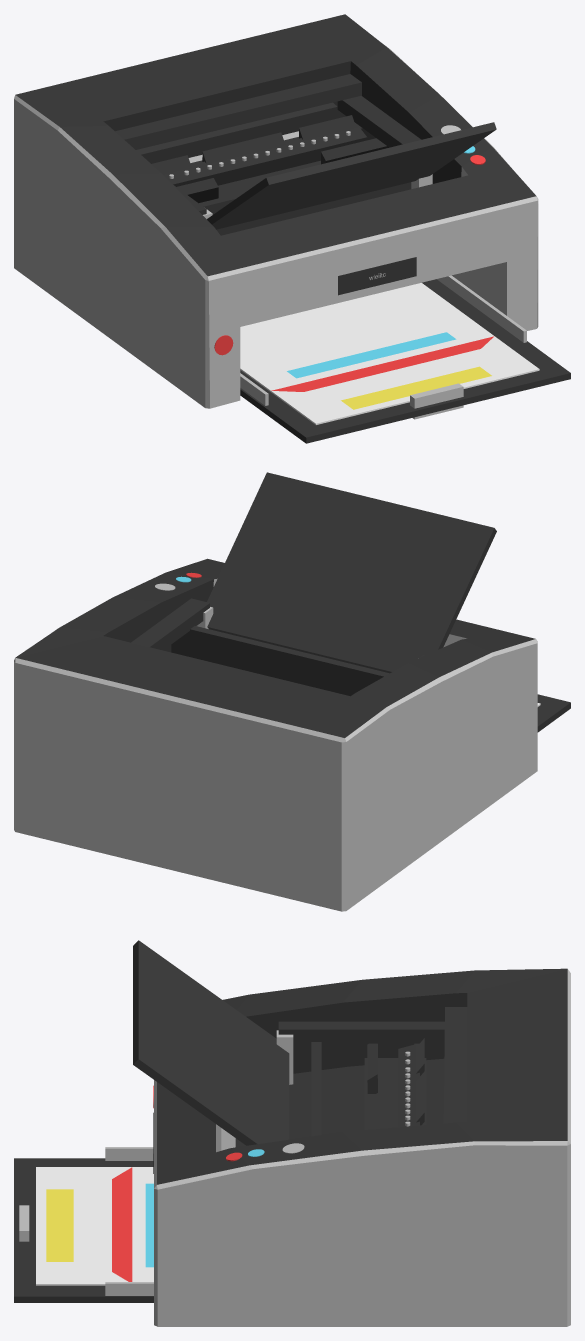
Rendered from printer.gltf.
3 renders of one model, top to bottom at view 1: azimuth 30°, elevation 25°; view 2: azimuth 150°, elevation 25°; view 3: azimuth 270°, elevation 25°, orthographic. The views are drawn at different scales.
Parts seen in each view (by area): view 1: Box023; view 2: Box023; view 3: Box023.
Part boxes in pixels (box(x1,y1,x2,y2)): Box023: box(14, 14, 570, 443); Box023: box(14, 472, 570, 911); Box023: box(14, 940, 570, 1326).
Size of the model in its own units: 0.5732 by 0.3693 by 0.7763.
